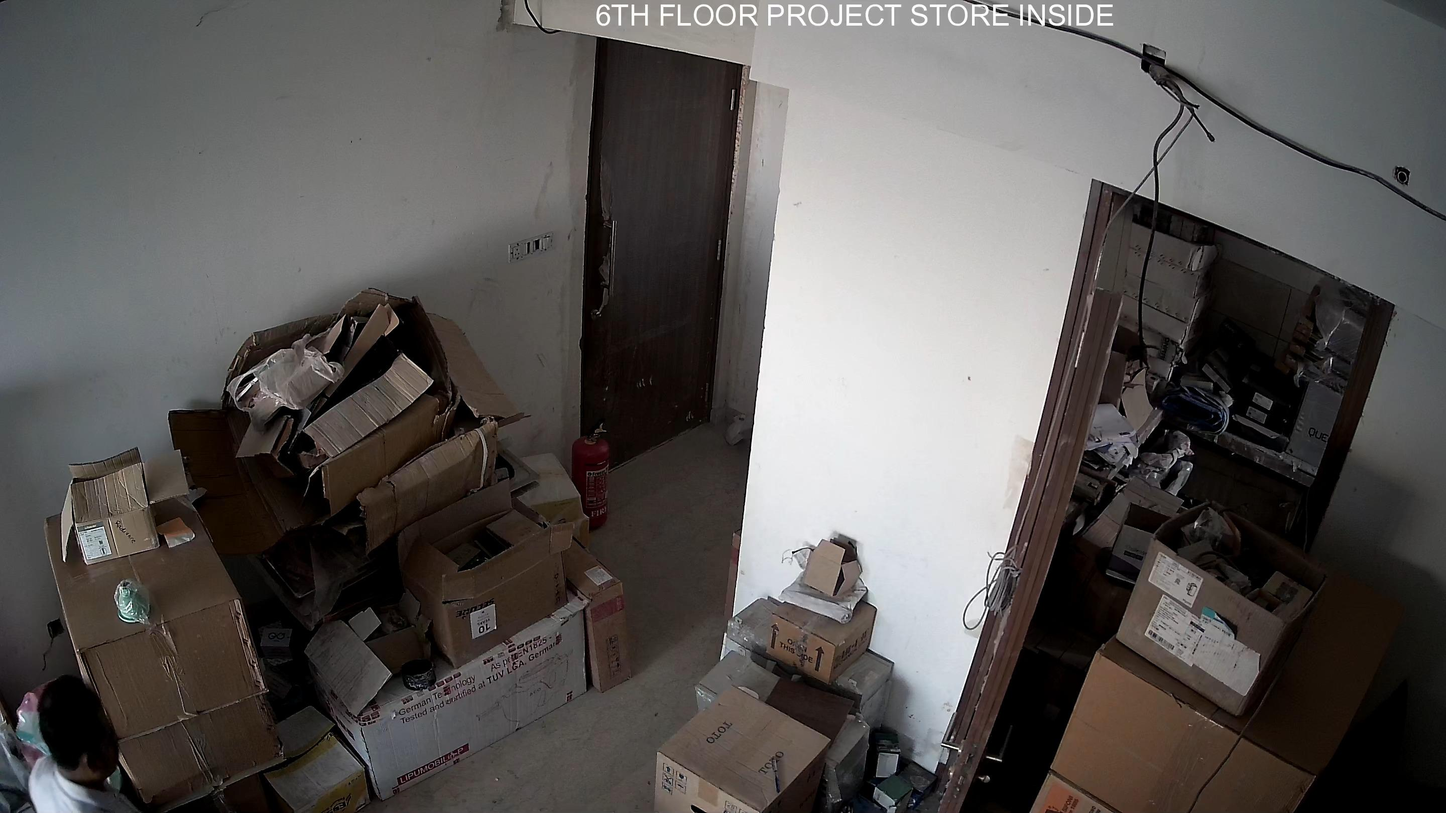Door-Close: (559, 36, 748, 497)
